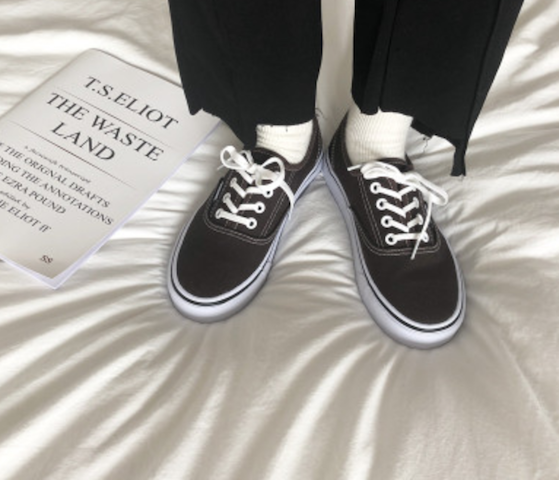shoes: (168, 132, 490, 349)
